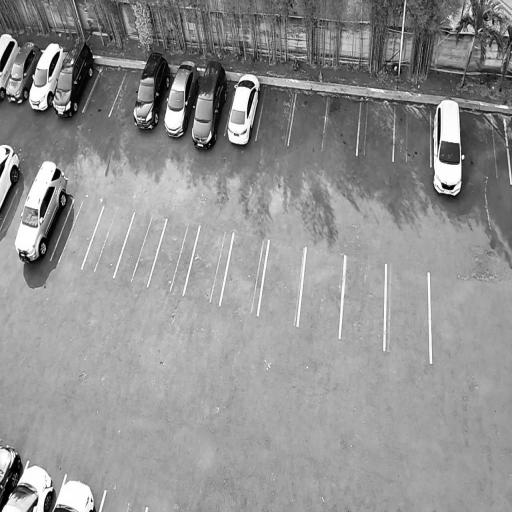Car: (5, 152, 75, 268), (184, 53, 232, 153), (155, 53, 203, 147), (49, 34, 99, 122), (128, 46, 175, 133), (221, 67, 264, 150), (430, 97, 463, 199), (24, 39, 68, 115), (0, 459, 59, 511), (2, 37, 44, 106), (47, 467, 106, 512), (0, 140, 25, 224), (0, 438, 25, 512), (0, 27, 23, 107)
Space Available: (385, 264, 431, 361), (340, 255, 386, 348), (298, 248, 345, 337), (257, 240, 306, 325), (220, 232, 269, 315), (148, 220, 200, 295), (183, 226, 233, 304), (113, 213, 166, 286), (81, 206, 135, 277), (51, 199, 104, 268), (321, 97, 361, 156), (256, 86, 296, 145), (356, 100, 394, 161), (289, 93, 328, 150), (393, 104, 430, 164), (82, 65, 126, 115), (109, 72, 142, 120)
